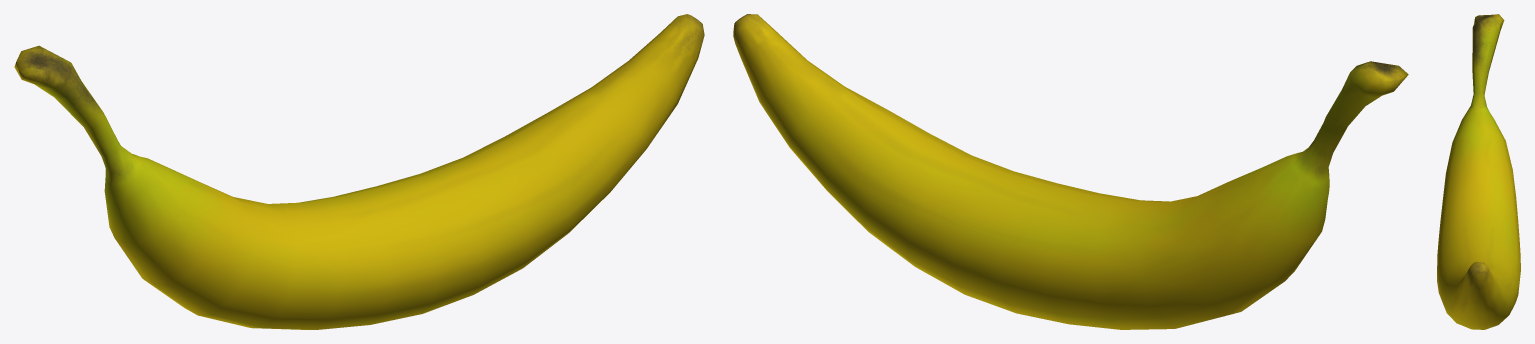
File: banana.glb
3 views of the same model, side by side, from view 1: azimuth 30°, elevation 25°; view 2: azimuth 150°, elevation 25°; view 3: azimuth 270°, elevation 25° (orthographic). The views are drawn at different scales.
Parts seen in each view (by area): view 1: banana_low; view 2: banana_low; view 3: banana_low.
Part boxes in pixels (<box>): banana_low: <box>14,14,704,329</box>; banana_low: <box>733,14,1408,329</box>; banana_low: <box>1437,14,1520,329</box>.
Bounding box in the file's own units: 462 × 218 × 85.04.
Materials: 1 (1 with a texture image).
